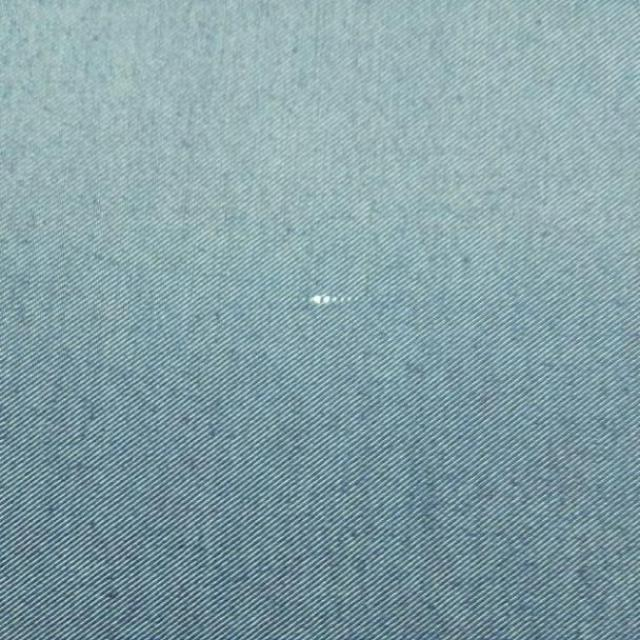Knot: (307, 294, 353, 307)
